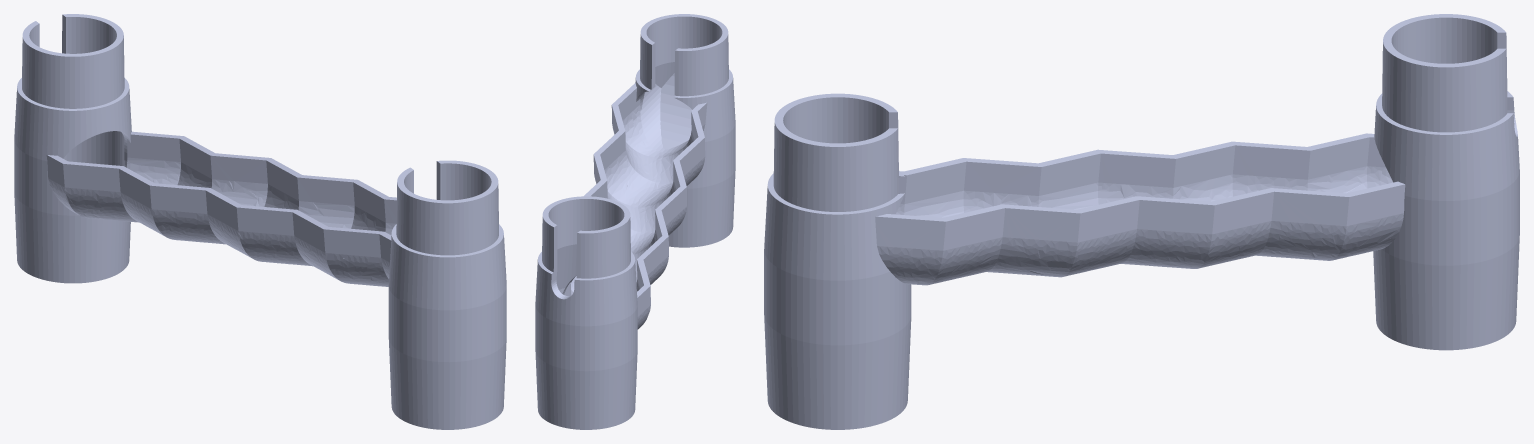
Rendered from Zigzag.FBX.
3 renders of one model, left to right at view 1: azimuth 30°, elevation 25°; view 2: azimuth 150°, elevation 25°; view 3: azimuth 270°, elevation 25°, orthographic. The views are drawn at different scales.
Visible parts, largest first — view 1: Zigzag.SLDPRT|:|90950E9E0F1916E9822846316B73B134CEA9D40A|:|D; view 2: Zigzag.SLDPRT|:|90950E9E0F1916E9822846316B73B134CEA9D40A|:|D; view 3: Zigzag.SLDPRT|:|90950E9E0F1916E9822846316B73B134CEA9D40A|:|D.
Boxes of the visible parts, left/top/right/bottom form: Zigzag.SLDPRT|:|90950E9E0F1916E9822846316B73B134CEA9D40A|:|D: left=14, top=14, right=506, bottom=429; Zigzag.SLDPRT|:|90950E9E0F1916E9822846316B73B134CEA9D40A|:|D: left=535, top=14, right=735, bottom=429; Zigzag.SLDPRT|:|90950E9E0F1916E9822846316B73B134CEA9D40A|:|D: left=764, top=14, right=1519, bottom=429.
Size of the model in its own units: 2.78 by 6.26 by 2.56.
